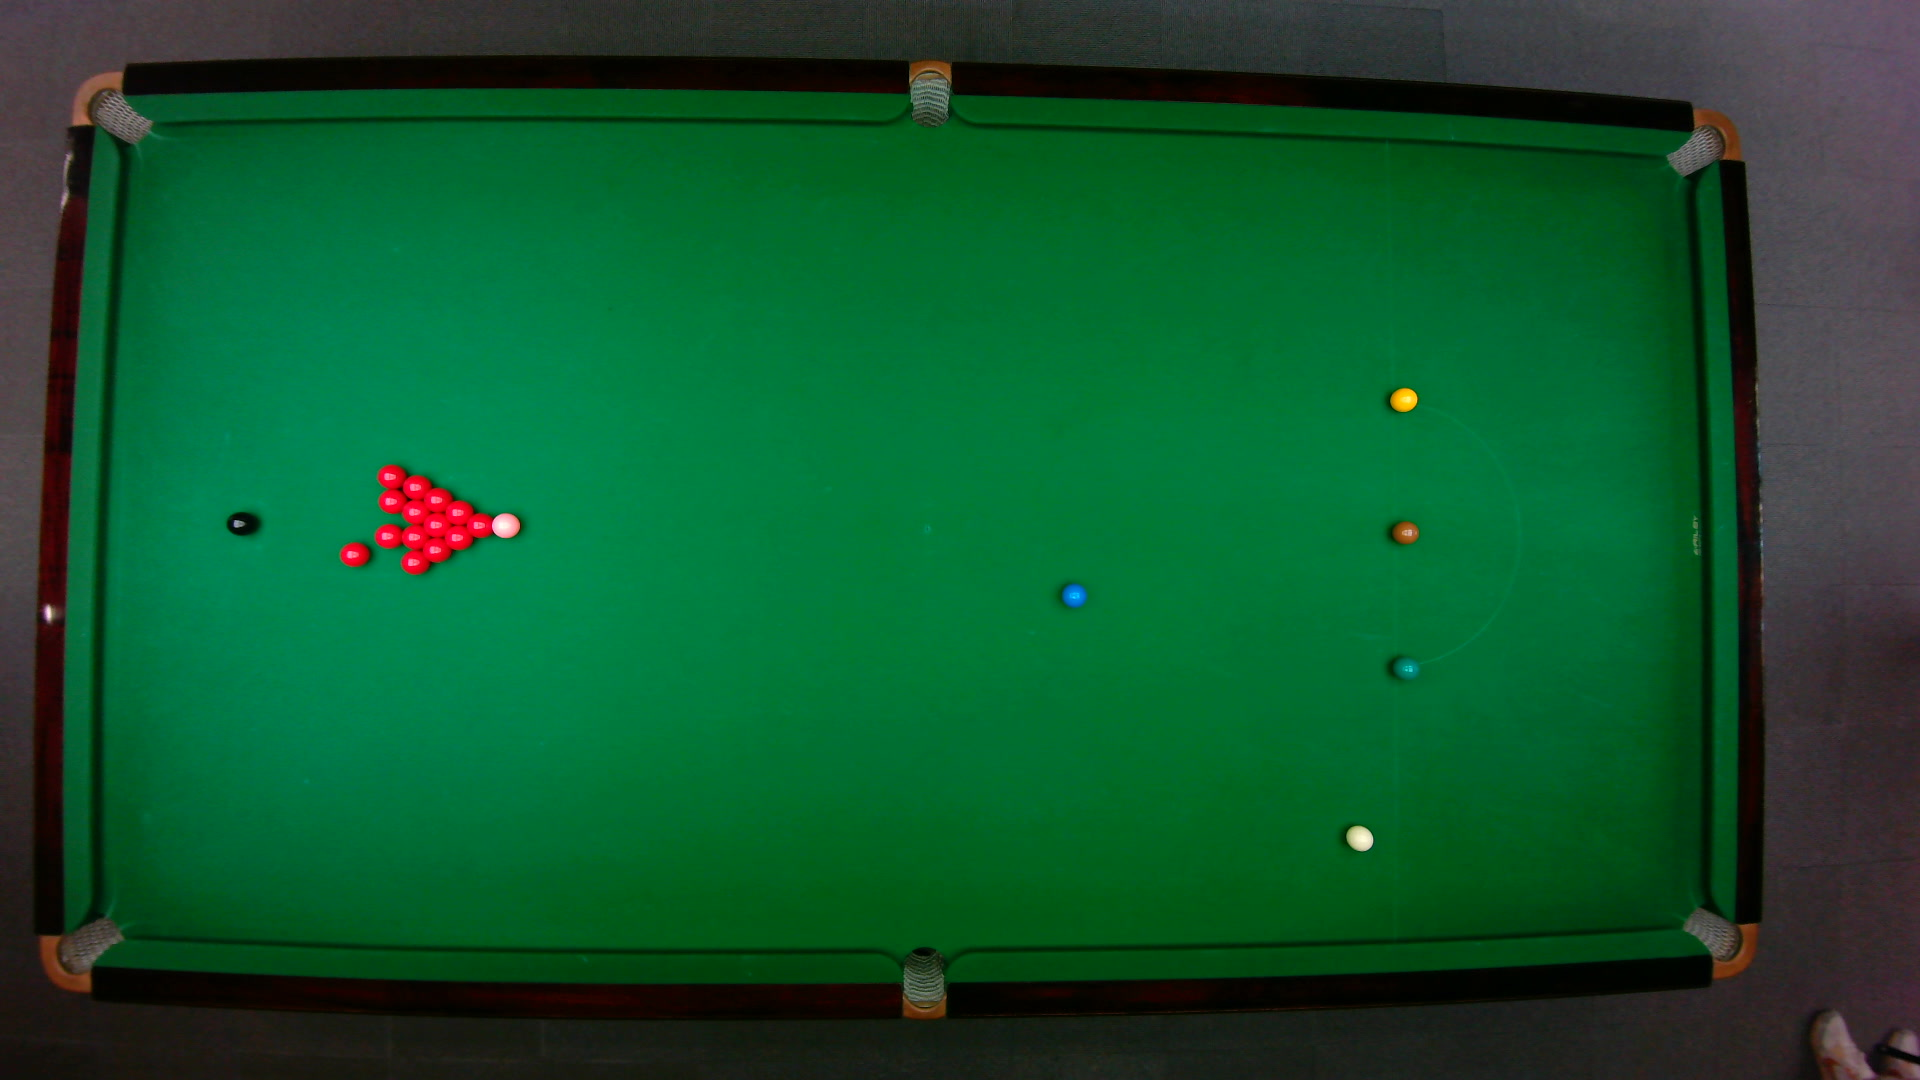bag: (37, 914, 125, 993), (69, 70, 152, 145), (1677, 905, 1756, 978), (1663, 107, 1741, 178), (901, 944, 944, 1021), (909, 57, 949, 128)
black: (224, 510, 256, 535)
blue: (1058, 582, 1087, 608)
brown: (1390, 520, 1419, 545)
green: (1390, 654, 1419, 680)
pink: (491, 510, 524, 541)
red: (376, 463, 410, 491), (339, 541, 372, 568), (401, 473, 435, 500), (400, 524, 433, 550), (400, 550, 433, 576), (443, 500, 476, 526), (421, 538, 454, 564), (401, 500, 433, 526), (376, 491, 409, 516), (465, 512, 495, 539), (422, 513, 454, 538), (425, 487, 454, 513), (375, 524, 405, 549), (444, 527, 476, 551)
white: (1342, 823, 1375, 851)
yellow: (1387, 385, 1419, 411)
zone: (1389, 401, 1520, 666)
